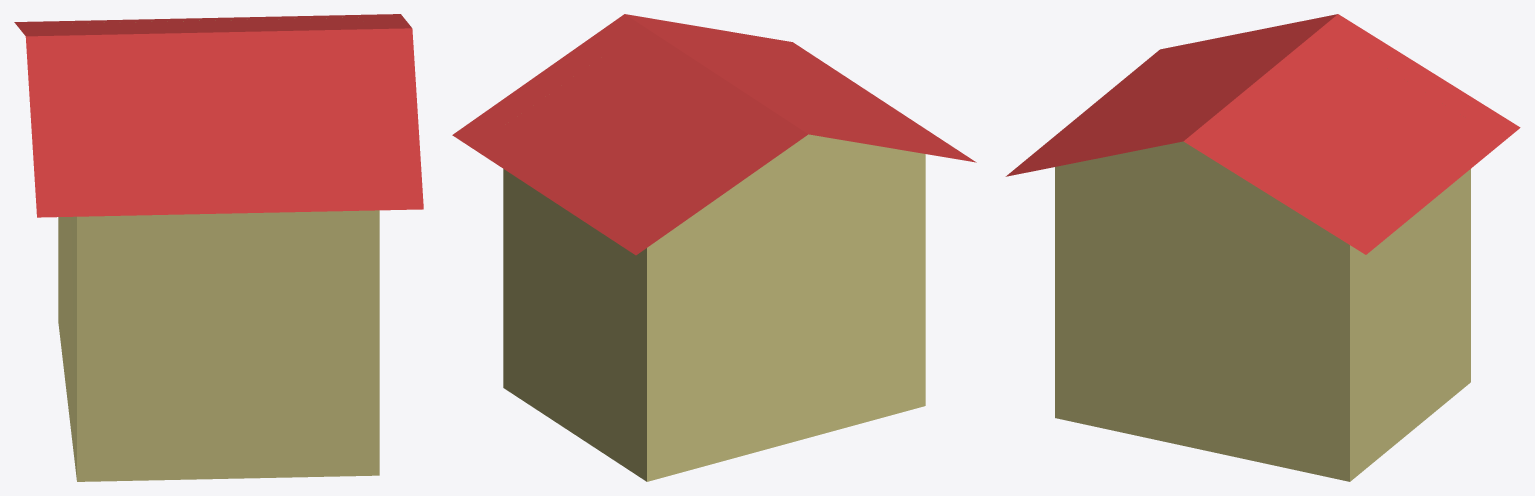
3 views of the same model, side by side, from view 1: azimuth 30°, elevation 25°; view 2: azimuth 150°, elevation 25°; view 3: azimuth 270°, elevation 25° (orthographic). The views are drawn at different scales.
Bounding box in the file's own units: 9.89 × 10.47 × 7.21.
